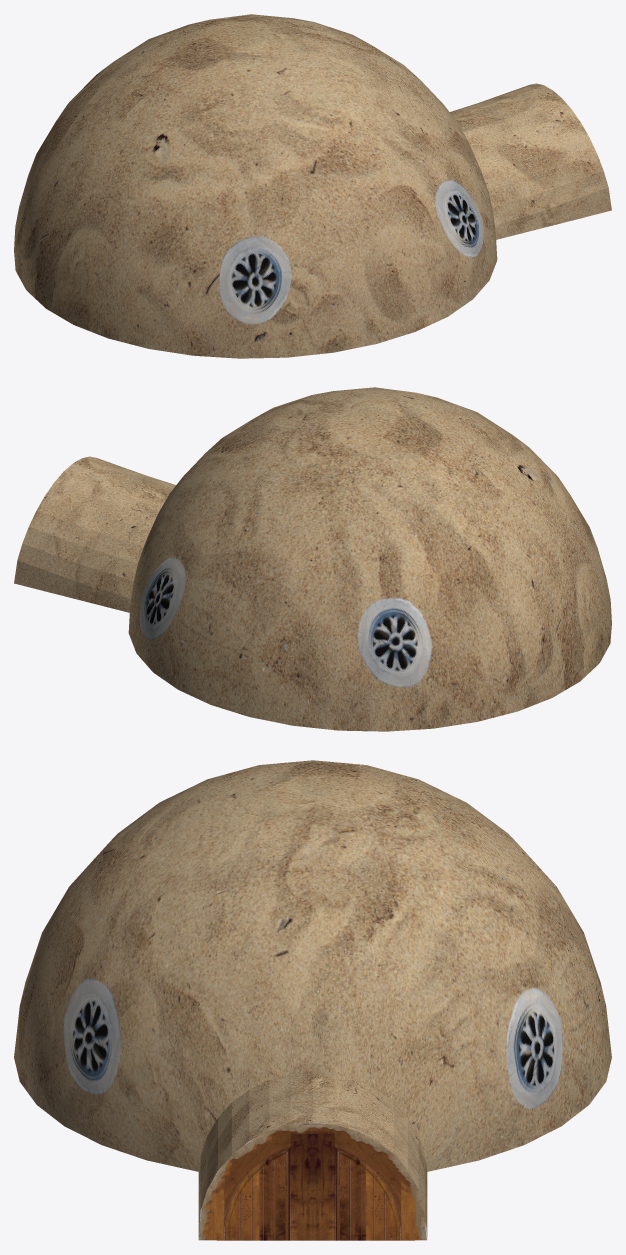
File: house.FBX
3 views of the same model, one above another, from view 1: azimuth 30°, elevation 25°; view 2: azimuth 150°, elevation 25°; view 3: azimuth 270°, elevation 25° (orthographic). The views are drawn at different scales.
Parts seen in each view (by area): view 1: Sphere001; view 2: Sphere001; view 3: Sphere001.
Boxes of the visible parts, x1,y1,x2,y2 form: Sphere001: (14,14,611,358); Sphere001: (14,387,611,731); Sphere001: (14,760,611,1240).
Size of the model in its own units: 86.8 by 35.17 by 70.01.
1 material, 1 textured.
